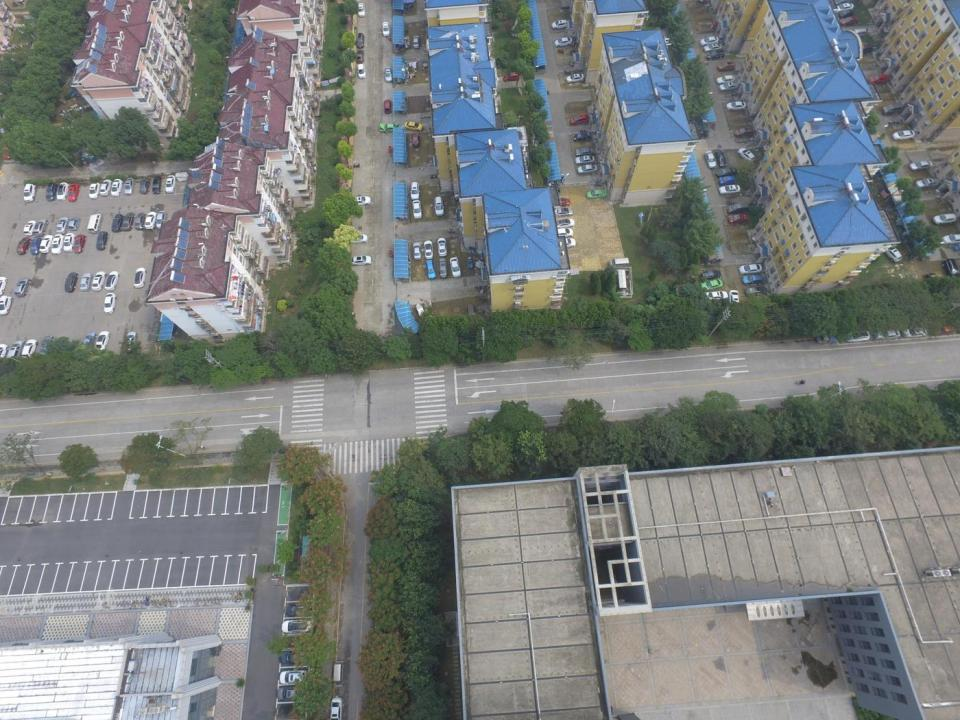car: (281, 619, 311, 634), (276, 686, 305, 700), (6, 340, 26, 360), (279, 670, 307, 684), (279, 651, 309, 664), (925, 273, 943, 293), (21, 339, 38, 359), (14, 277, 31, 297), (64, 271, 79, 293), (942, 259, 960, 277), (39, 335, 54, 356), (901, 326, 927, 338), (884, 245, 902, 262), (81, 332, 97, 351), (105, 271, 120, 291), (92, 271, 107, 291), (54, 336, 69, 356), (933, 212, 956, 225), (285, 605, 312, 616), (909, 160, 933, 172), (700, 279, 724, 291), (738, 263, 762, 275), (16, 237, 32, 255), (33, 218, 49, 236), (874, 329, 900, 340), (125, 331, 138, 353), (96, 330, 110, 350), (0, 296, 14, 316), (741, 274, 764, 286), (845, 331, 870, 342), (330, 698, 343, 719), (103, 293, 116, 314), (51, 234, 64, 255), (134, 267, 147, 288), (39, 235, 54, 253), (55, 216, 70, 234), (737, 148, 756, 162), (931, 324, 955, 335), (916, 178, 940, 189), (892, 130, 915, 141), (552, 218, 575, 229), (868, 73, 889, 85), (379, 122, 400, 134), (449, 257, 461, 278), (425, 259, 437, 280), (122, 213, 136, 231), (704, 150, 717, 169), (56, 182, 69, 201), (110, 178, 123, 197), (73, 234, 86, 253), (63, 233, 76, 252), (718, 184, 740, 195), (727, 214, 751, 224), (45, 183, 58, 201), (67, 184, 80, 202), (123, 178, 136, 196), (164, 175, 177, 193), (112, 214, 125, 232), (79, 273, 92, 291), (29, 237, 42, 255), (716, 167, 737, 178), (586, 189, 607, 200), (351, 255, 372, 266), (705, 291, 728, 301), (728, 289, 740, 308), (134, 212, 146, 231), (96, 231, 108, 250), (23, 220, 37, 236), (706, 50, 726, 61), (719, 82, 739, 93), (734, 127, 754, 138), (570, 114, 590, 125), (556, 237, 576, 248), (351, 195, 371, 206), (2, 138, 12, 160), (715, 150, 727, 168), (24, 184, 36, 202), (156, 211, 168, 229), (145, 211, 157, 229), (552, 228, 573, 238), (702, 269, 721, 280), (578, 164, 597, 175), (412, 200, 423, 219), (349, 233, 368, 244), (100, 179, 112, 196), (840, 16, 860, 26), (703, 43, 723, 53), (726, 101, 746, 111), (575, 155, 595, 165), (434, 196, 444, 216), (438, 258, 448, 278), (942, 233, 960, 244), (745, 287, 767, 296), (552, 19, 570, 30), (566, 73, 584, 84), (405, 121, 423, 132), (409, 182, 420, 200), (436, 238, 447, 256), (152, 176, 163, 194), (139, 178, 151, 194), (700, 36, 719, 46), (554, 37, 573, 47), (576, 147, 595, 157), (423, 240, 433, 259), (503, 71, 520, 82), (89, 182, 100, 199), (412, 242, 422, 260), (717, 62, 736, 71), (716, 75, 735, 84), (718, 176, 736, 185), (573, 132, 591, 141), (690, 129, 708, 138), (0, 276, 8, 296), (68, 218, 80, 231), (554, 208, 573, 216), (836, 3, 854, 11), (381, 21, 390, 37), (384, 66, 393, 82), (357, 63, 366, 79), (553, 198, 570, 206), (358, 2, 366, 18), (356, 32, 364, 48), (838, 10, 853, 18), (356, 49, 364, 63), (412, 132, 420, 146), (384, 99, 391, 114), (412, 35, 419, 49)
truck: (817, 333, 839, 344)
van: (87, 213, 102, 233), (333, 661, 344, 687), (882, 103, 904, 116), (728, 202, 750, 215), (609, 257, 629, 268), (858, 44, 873, 54), (467, 304, 475, 321), (853, 28, 867, 37)
